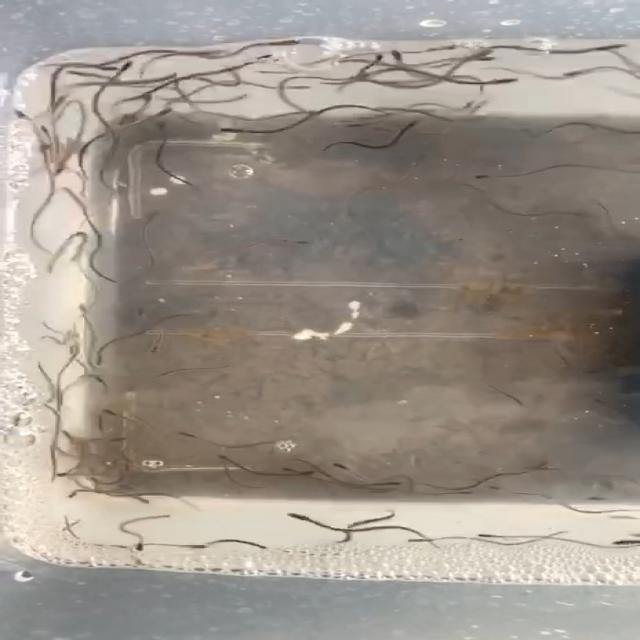inactive_glass_eel: (29, 121, 73, 137), (35, 254, 64, 276), (593, 39, 625, 57), (368, 52, 396, 72), (555, 68, 598, 81), (486, 74, 525, 88), (325, 459, 360, 474), (262, 39, 309, 50), (280, 509, 310, 526), (386, 47, 411, 67), (116, 110, 146, 126), (50, 466, 84, 480), (61, 64, 89, 80), (466, 98, 498, 112), (274, 462, 305, 476), (135, 539, 162, 555), (112, 61, 151, 72), (535, 459, 560, 476), (207, 126, 249, 136), (56, 422, 78, 441), (251, 50, 280, 64), (20, 141, 60, 151), (404, 120, 429, 136), (46, 162, 79, 174), (90, 64, 125, 75), (61, 182, 80, 202), (94, 352, 114, 371), (376, 480, 411, 490), (68, 302, 97, 314), (85, 412, 114, 424), (292, 454, 321, 466), (0, 109, 34, 119), (167, 429, 201, 439), (470, 170, 498, 182), (607, 537, 640, 547), (208, 451, 235, 463), (48, 95, 77, 106), (134, 306, 158, 319), (60, 489, 84, 502), (184, 542, 212, 553), (468, 55, 506, 63), (401, 536, 430, 546), (159, 107, 185, 118), (247, 537, 270, 549), (148, 120, 172, 131), (478, 531, 504, 541), (430, 44, 459, 52), (293, 106, 314, 117), (520, 464, 543, 474), (79, 377, 117, 383), (132, 496, 157, 505), (456, 98, 476, 108), (99, 406, 118, 416), (106, 433, 124, 443)
